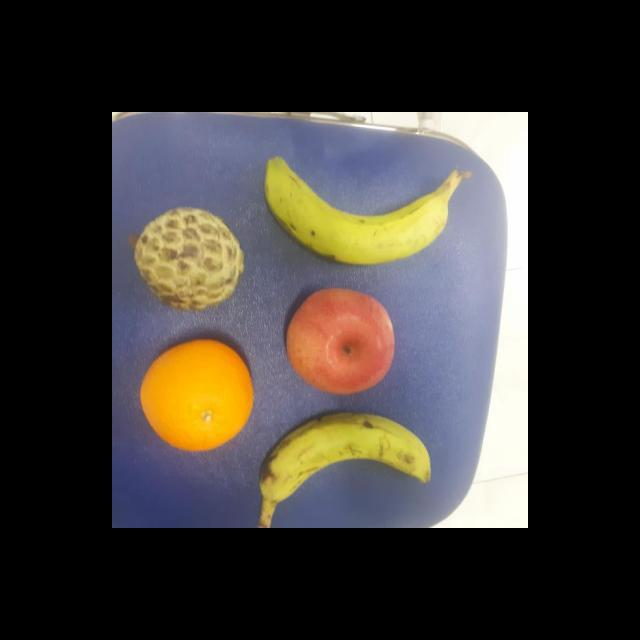Sakya fruit: (127, 203, 251, 314)
apple: (286, 286, 396, 394)
banana: (264, 160, 466, 268), (261, 406, 434, 514)
orange: (136, 336, 256, 456)
